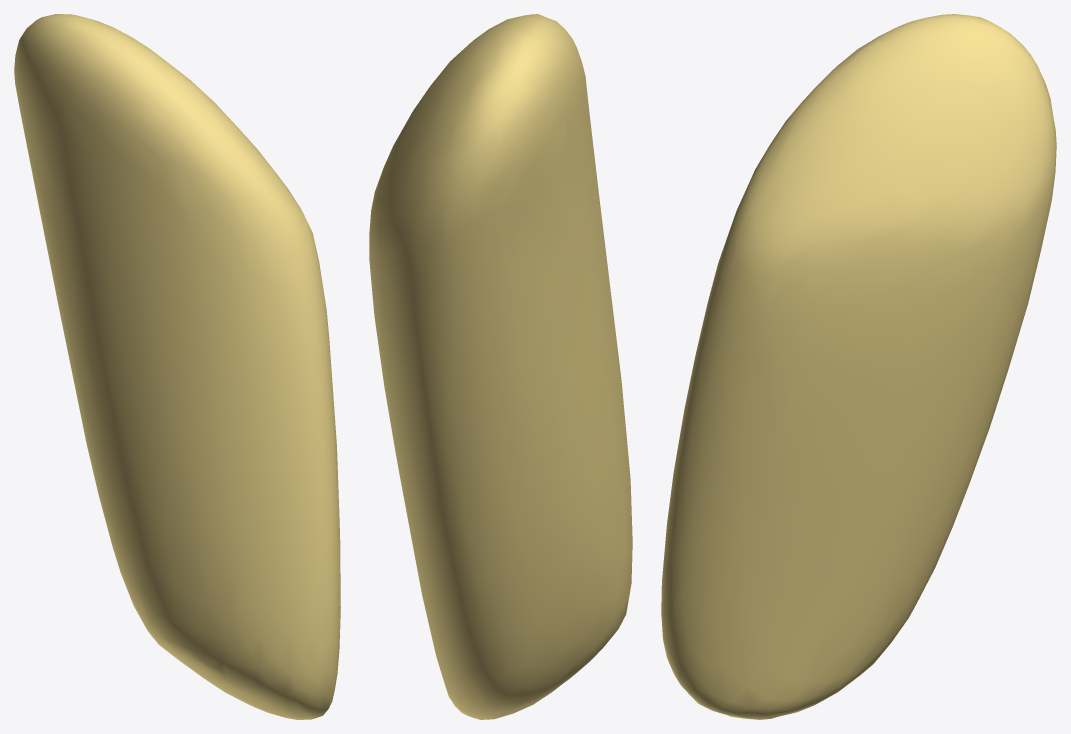
File: fma73327_fj7492m.glb
3 renders of one model, left to right at view 1: azimuth 30°, elevation 25°; view 2: azimuth 150°, elevation 25°; view 3: azimuth 270°, elevation 25°, orthographic. The views are drawn at different scales.
Visible parts, largest first — view 1: FMA73327_FJ7492M; view 2: FMA73327_FJ7492M; view 3: FMA73327_FJ7492M.
Boxes of the visible parts, x1,y1,x2,y2 form: FMA73327_FJ7492M: (14,14,340,719); FMA73327_FJ7492M: (369,14,632,719); FMA73327_FJ7492M: (661,14,1056,719).
Size of the model in its own units: 0.00232 by 0.00779 by 0.00432.
